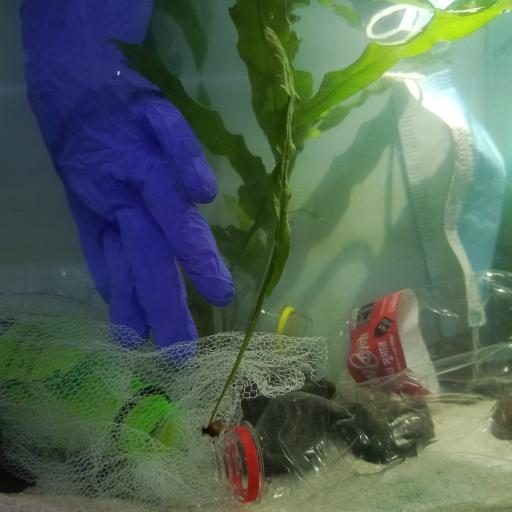glove: (19, 28, 236, 348)
mask: (384, 54, 504, 334)
net: (0, 256, 326, 509)
plastic_bottle: (207, 338, 512, 512), (2, 307, 178, 452), (315, 267, 512, 393), (238, 281, 312, 351)
